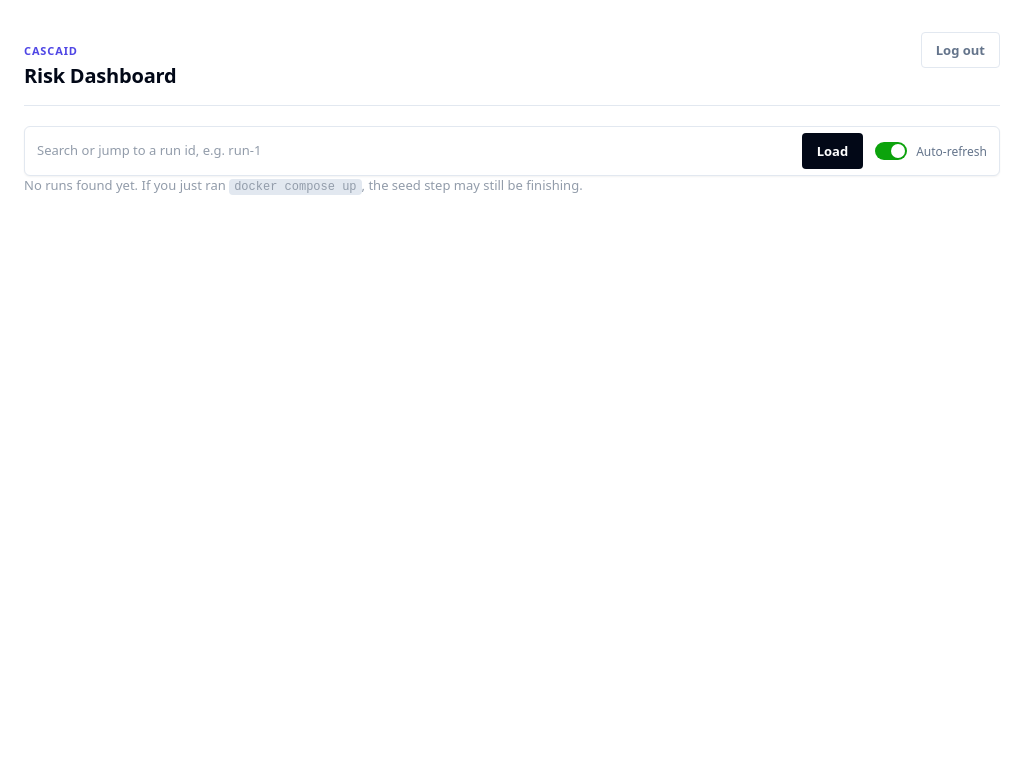
Test: App › loads and renders the pipeline graph and track record for an entered run id
The image size is (1024, 768).
In the field labelled "Search or jump to a run id, e.g. run-1": (415, 151) [37,136,794,166], type "run-1"
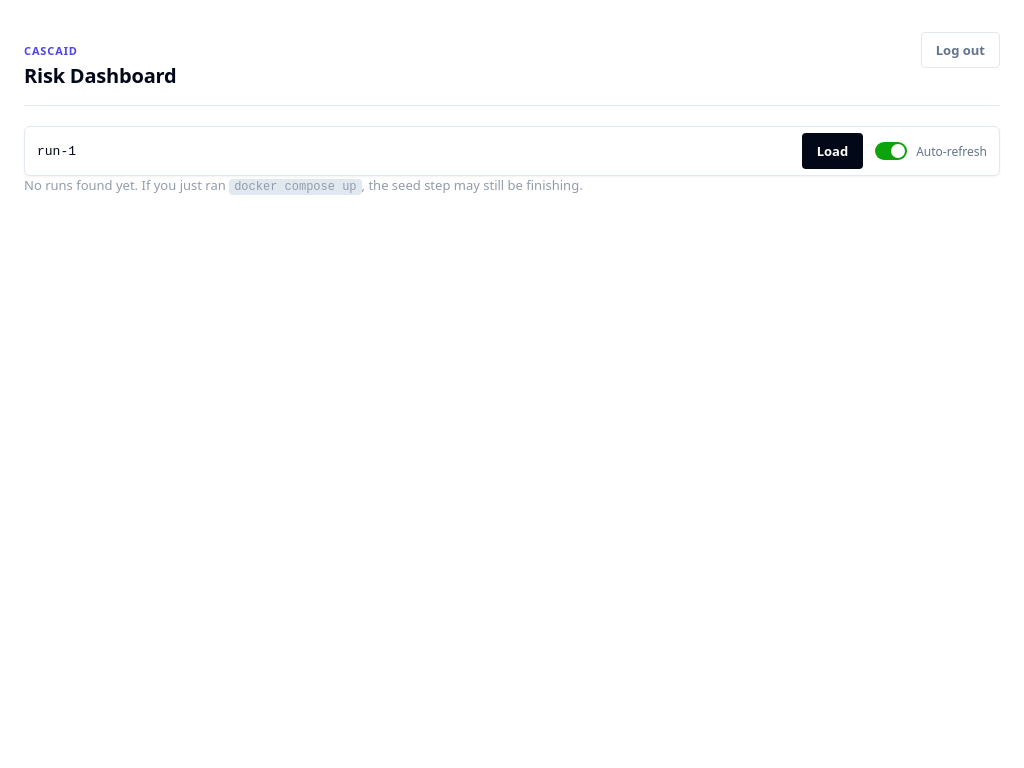
Click the button "Load": (832, 151) [802,133,863,169]
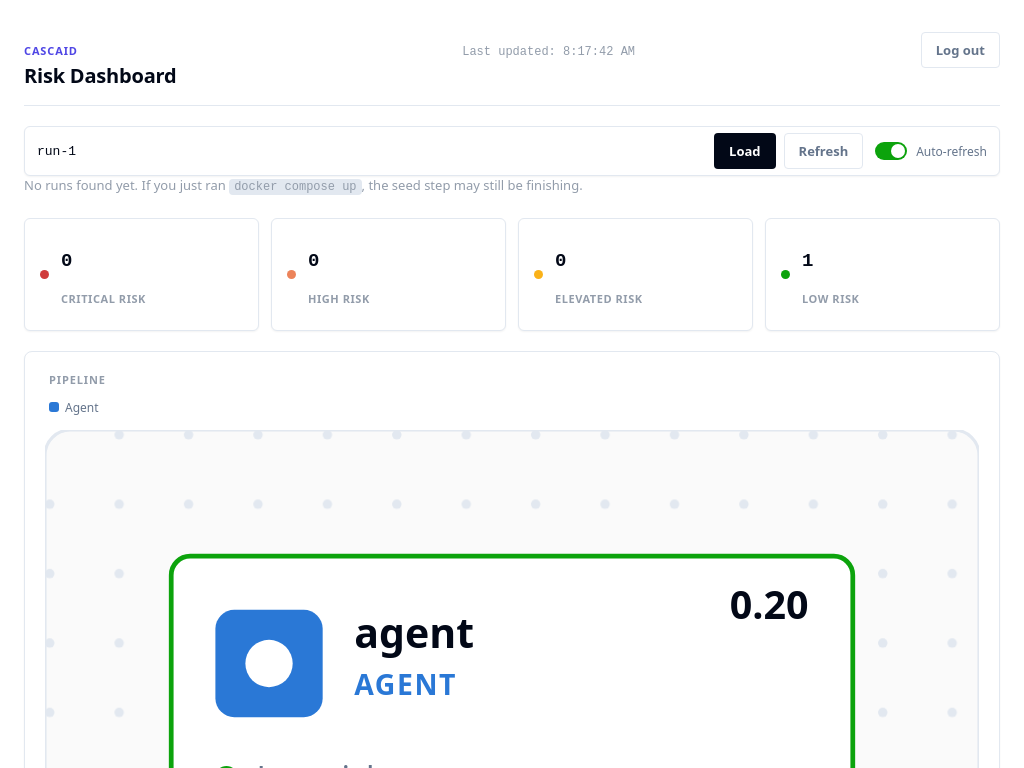
Check: the text "Last updated: 8:17:42 AM" is shown, box [462,45,635,59]
